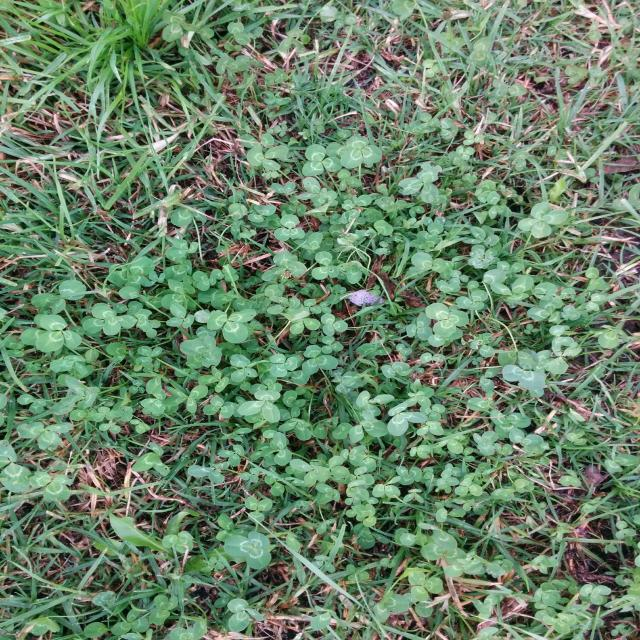Four Leaf Clover: (518, 201, 568, 238)
